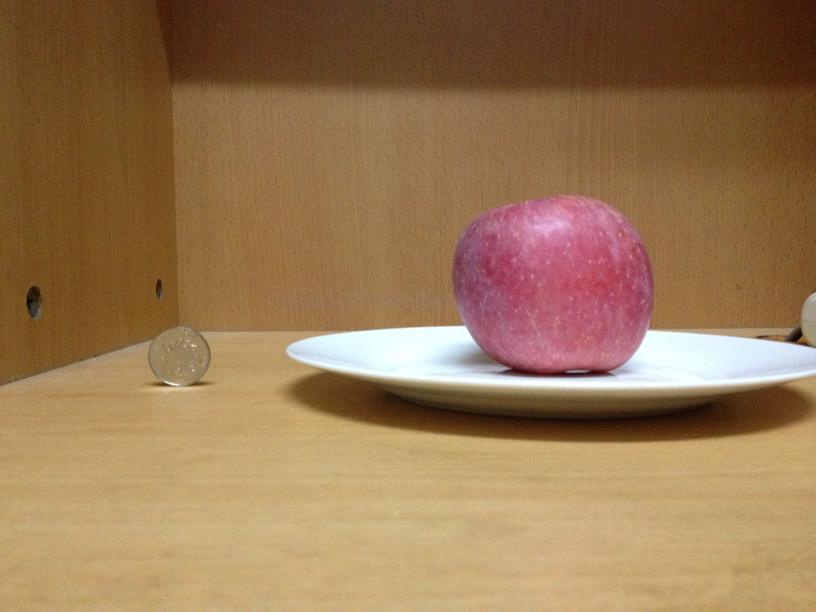apple: (449, 194, 655, 371)
coin: (148, 327, 212, 384)
